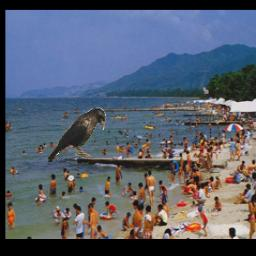Crow: (48, 108, 106, 163)
